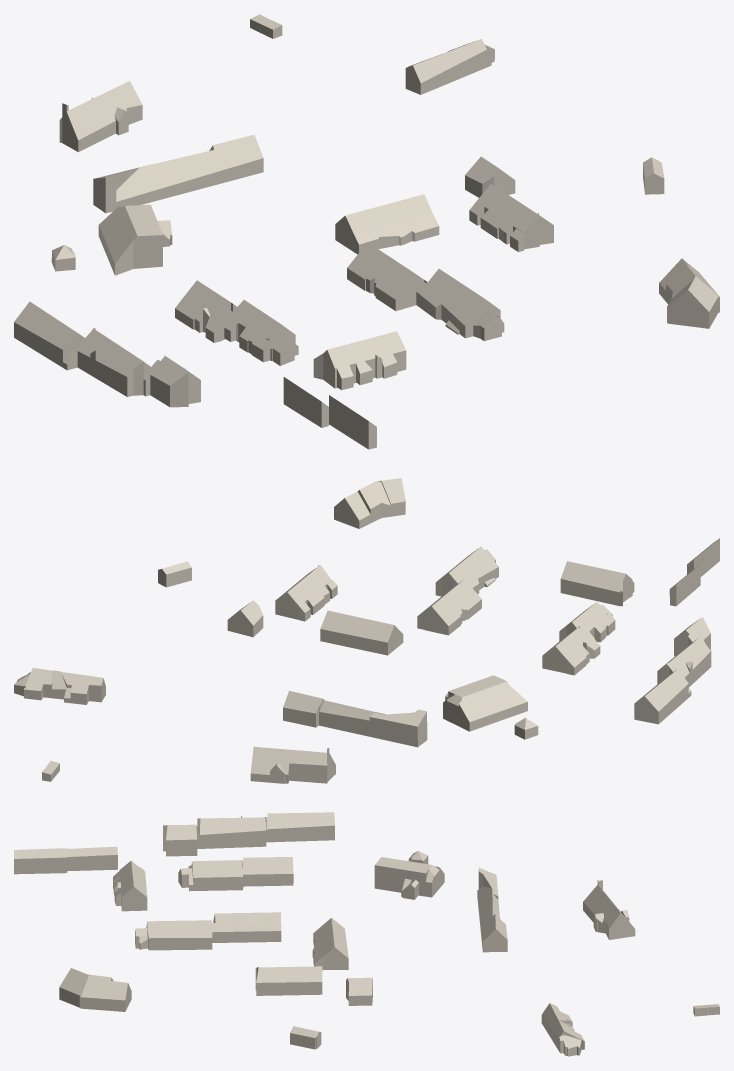
The picture shows the model from 3 angles, top to bottom: view 1: azimuth 30°, elevation 25°; view 2: azimuth 150°, elevation 25°; view 3: azimuth 270°, elevation 25°; orthographic projection. The views are drawn at different scales.
Size of the model in its own units: 152 by 13.3 by 196.
